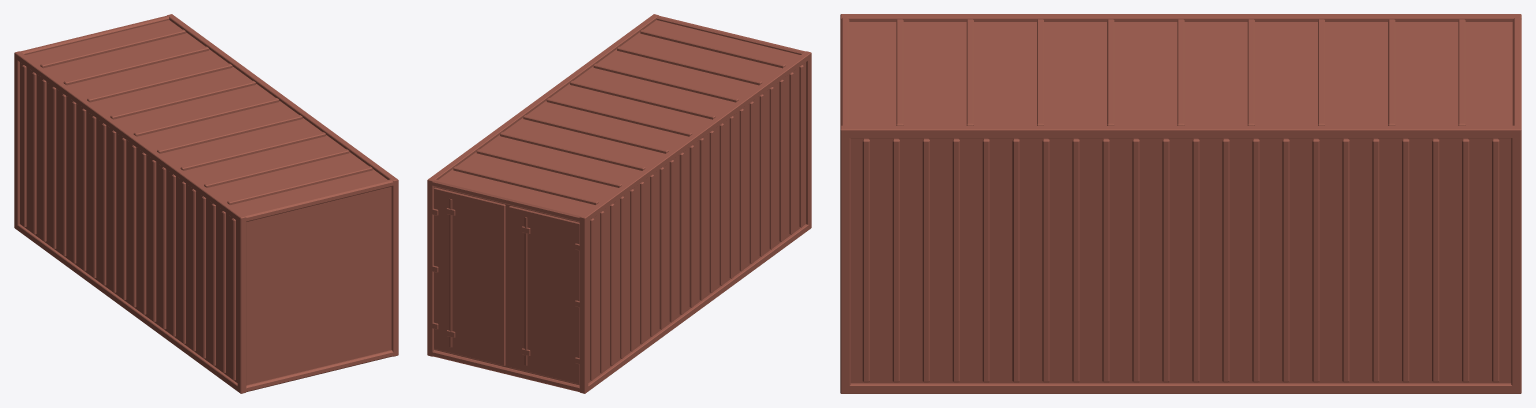
Rendered from container-20ft-01.glb.
The picture shows the model from 3 angles, left to right: view 1: azimuth 30°, elevation 25°; view 2: azimuth 150°, elevation 25°; view 3: azimuth 270°, elevation 25°; orthographic projection. The views are drawn at different scales.
Visible parts, largest first — view 1: ContainerShell, SideFrame.001, SideFrame, SideFrame.003, CornerPost, CornerPost.002, EndFrame.001, EndFrame, CornerPost.001, EndFrame.003, CorrugatedSideRib, CorrugatedSideRib.001 (+29 smaller); view 2: ContainerShell, RearDoor.001, RearDoor, SideFrame.001, SideFrame, SideFrame.003, CornerPost.001, EndFrame.003, CornerPost.003, EndFrame.002, CornerPost, EndFrame.001 (+33 smaller); view 3: ContainerShell, SideFrame.003, SideFrame.002, SideFrame.001, CornerPost.003, CornerPost.002, CorrugatedSideRib.022, CorrugatedSideRib.023, CorrugatedSideRib.024, CorrugatedSideRib.025, CorrugatedSideRib.028, CorrugatedSideRib.029 (+27 smaller).
Boxes of the visible parts, x1,y1,x2,y2 form: ContainerShell: (20, 20, 391, 385); SideFrame.001: (14, 51, 245, 222); SideFrame: (14, 224, 246, 393); SideFrame.003: (167, 14, 398, 184); CornerPost: (237, 216, 246, 393); CornerPost.002: (391, 180, 398, 356); EndFrame.001: (244, 179, 393, 221); EndFrame: (246, 350, 393, 391); CornerPost.001: (14, 53, 19, 229); EndFrame.003: (20, 15, 169, 54); CorrugatedSideRib: (231, 218, 235, 380); CorrugatedSideRib.001: (221, 211, 225, 373); ContainerShell: (434, 20, 805, 385); RearDoor.001: (434, 187, 505, 366); RearDoor: (509, 206, 579, 384); SideFrame.001: (579, 51, 811, 222); SideFrame: (579, 224, 810, 393); SideFrame.003: (427, 14, 658, 186); CornerPost.001: (579, 216, 588, 393); EndFrame.003: (432, 179, 581, 221); CornerPost.003: (427, 179, 435, 356); EndFrame.002: (432, 350, 579, 391); CornerPost: (806, 53, 811, 229); EndFrame.001: (656, 15, 805, 54); ContainerShell: (849, 22, 1512, 383); SideFrame.003: (840, 125, 1521, 138); SideFrame.002: (840, 383, 1521, 393); SideFrame.001: (840, 14, 1521, 21); CornerPost.003: (1511, 129, 1521, 393); CornerPost.002: (840, 129, 850, 393); CorrugatedSideRib.022: (862, 138, 869, 382); CorrugatedSideRib.023: (892, 138, 899, 382); CorrugatedSideRib.024: (922, 138, 929, 382); CorrugatedSideRib.025: (952, 138, 959, 382); CorrugatedSideRib.028: (1042, 138, 1049, 382); CorrugatedSideRib.029: (1072, 138, 1079, 382).
Bounding box in the file's own units: 2.44 × 2.6 × 6.06.
